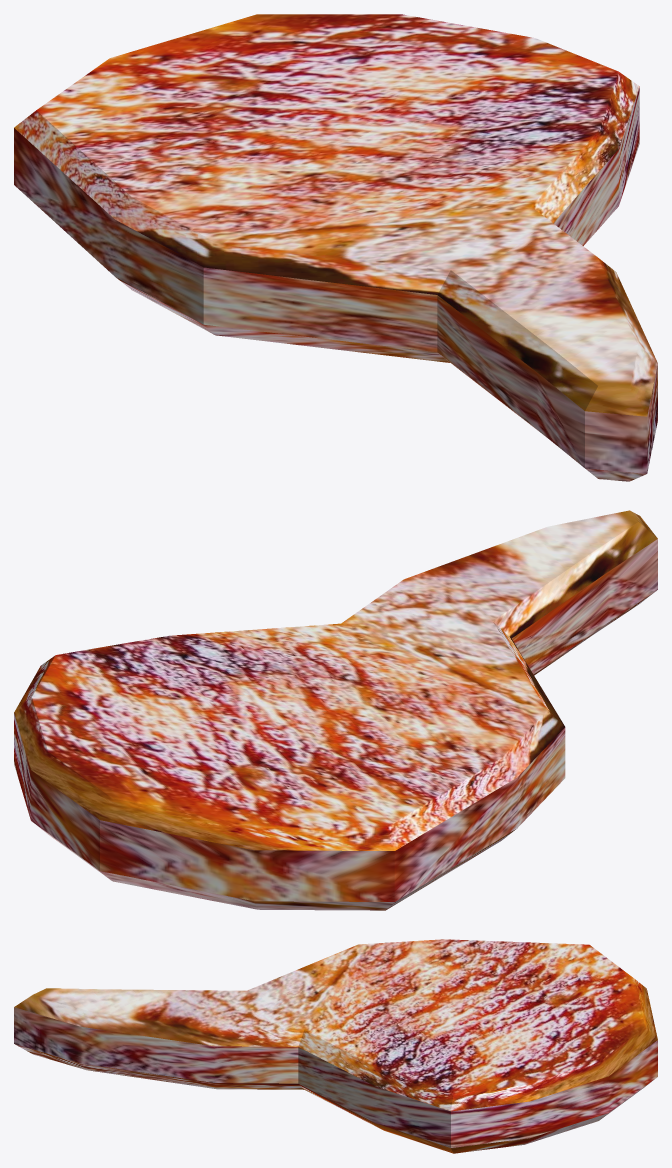
Rendered from Porkchop2.fbx.
The picture shows the model from 3 angles, top to bottom: view 1: azimuth 30°, elevation 25°; view 2: azimuth 150°, elevation 25°; view 3: azimuth 270°, elevation 25°; orthographic projection. The views are drawn at different scales.
Parts seen in each view (by area): view 1: Porkchop; view 2: Porkchop; view 3: Porkchop.
Part boxes in pixels (<box>): Porkchop: <box>14,14,657,481</box>; Porkchop: <box>14,510,657,910</box>; Porkchop: <box>14,939,657,1153</box>.
Size of the model in its own units: 16.21 by 2.72 by 26.58.
